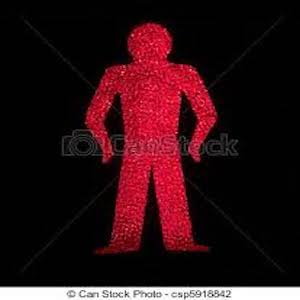red: (76, 15, 232, 259)
